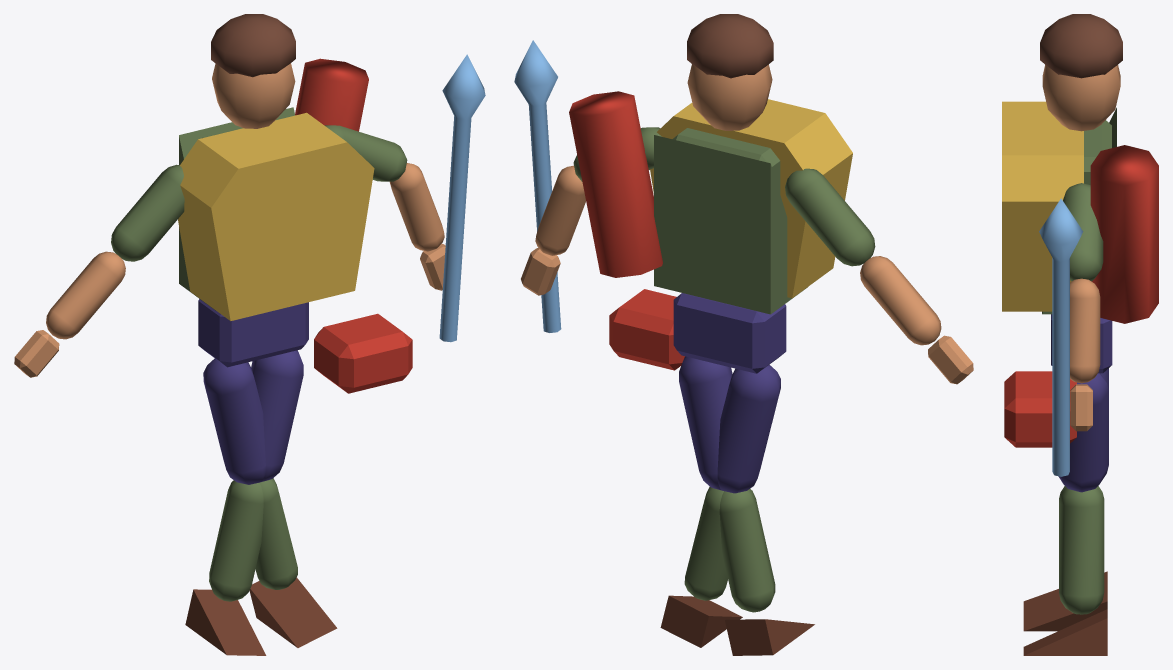
The model's file is adventurer.rustic.glb.
3 views of the same model, side by side, from view 1: azimuth 30°, elevation 25°; view 2: azimuth 150°, elevation 25°; view 3: azimuth 270°, elevation 25° (orthographic).
Parts seen in each view (by area): view 1: accessory.body, accessory.waist, accessory.main-hand, thigh.left, pelvis, shin.right, hair, thigh.right, accessory.back, upper-arm.left, head, forearm.left (+8 smaller); view 2: tunic, accessory.back, accessory.body, pelvis, thigh.left, shin.right, upper-arm.left, accessory.main-hand, hair, accessory.waist, thigh.right, head (+8 smaller); view 3: accessory.body, accessory.back, accessory.main-hand, shin.left, hair, accessory.waist, head, thigh.right, forearm.right, upper-arm.right, foot.left, foot.right (+3 smaller).
Part boxes in pixels (x1,y1,x2,y2): accessory.body: [178, 112, 374, 320]; accessory.waist: [314, 313, 412, 393]; accessory.main-hand: [439, 54, 485, 342]; thigh.left: [203, 358, 265, 484]; pelvis: [198, 299, 308, 367]; shin.right: [209, 480, 263, 601]; hair: [211, 14, 295, 77]; thigh.right: [251, 350, 303, 481]; accessory.back: [295, 58, 368, 131]; upper-arm.left: [111, 164, 184, 261]; head: [212, 63, 295, 128]; forearm.left: [46, 251, 125, 339]; tunic: [654, 135, 807, 314]; accessory.back: [569, 91, 662, 277]; accessory.body: [650, 99, 852, 298]; pelvis: [673, 293, 786, 373]; thigh.left: [717, 364, 780, 493]; shin.right: [719, 489, 775, 612]; upper-arm.left: [785, 168, 875, 266]; accessory.main-hand: [514, 40, 561, 332]; hair: [687, 14, 773, 78]; accessory.waist: [609, 289, 684, 370]; thigh.right: [679, 356, 732, 490]; head: [687, 64, 772, 130]; accessory.body: [1002, 101, 1083, 311]; accessory.back: [1090, 145, 1158, 323]; accessory.main-hand: [1039, 198, 1083, 476]; shin.left: [1059, 487, 1104, 614]; hair: [1040, 14, 1122, 78]; accessory.waist: [1004, 371, 1076, 447]; head: [1042, 64, 1120, 131]; thigh.right: [1058, 373, 1108, 492]; forearm.right: [1070, 278, 1100, 383]; upper-arm.right: [1063, 183, 1103, 281]; foot.left: [1023, 609, 1107, 655]; foot.right: [1023, 571, 1107, 631].
Bounding box in the file's own units: 2.35 × 3.01 × 0.69.
